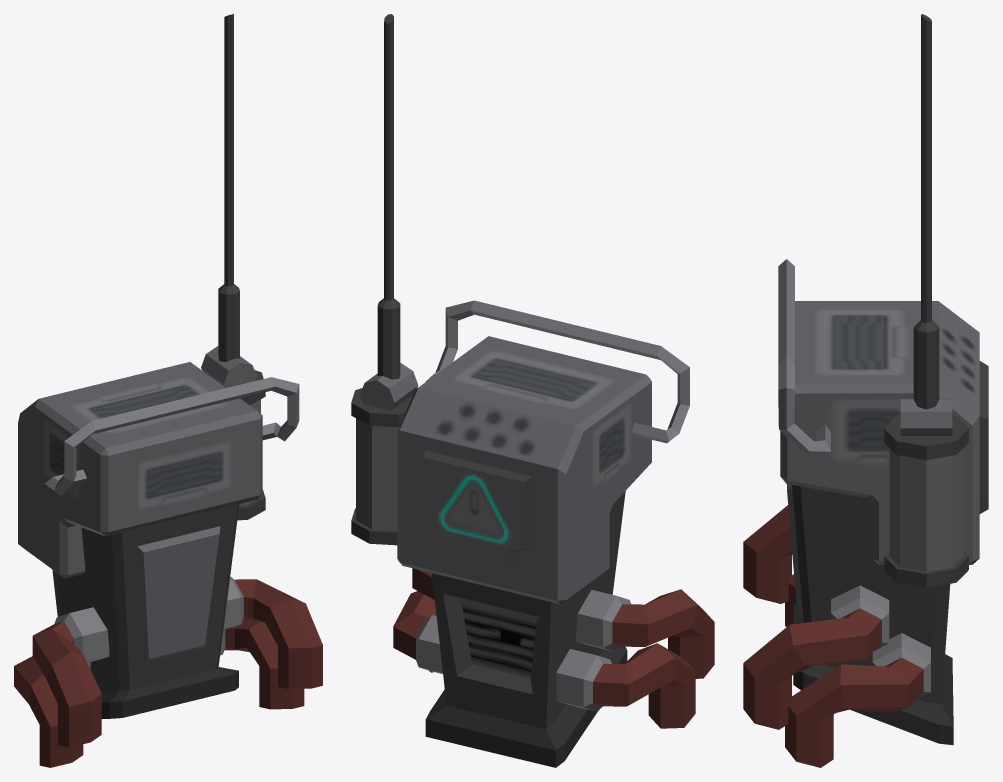
File: worlds_SM_Veh_Vendor_Tug_01_Attach_Tech_01.gltf
3 views of the same model, side by side, from view 1: azimuth 30°, elevation 25°; view 2: azimuth 150°, elevation 25°; view 3: azimuth 270°, elevation 25° (orthographic). The views are drawn at different scales.
Visible parts, largest first — view 1: SM_Veh_Vendor_Tug_01_Attach_Tech_01; view 2: SM_Veh_Vendor_Tug_01_Attach_Tech_01; view 3: SM_Veh_Vendor_Tug_01_Attach_Tech_01.
Boxes of the visible parts, box(x1,y1,x2,y2) form: SM_Veh_Vendor_Tug_01_Attach_Tech_01: box(14, 14, 322, 767); SM_Veh_Vendor_Tug_01_Attach_Tech_01: box(351, 14, 714, 767); SM_Veh_Vendor_Tug_01_Attach_Tech_01: box(743, 14, 988, 767).
Size of the model in its own units: 1.29 by 3.08 by 0.9047.
1 material, 1 textured.
